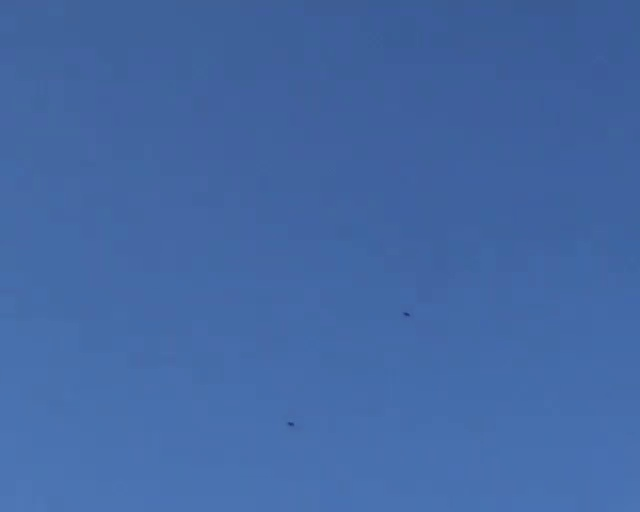BIRD: (402, 309, 411, 318)
